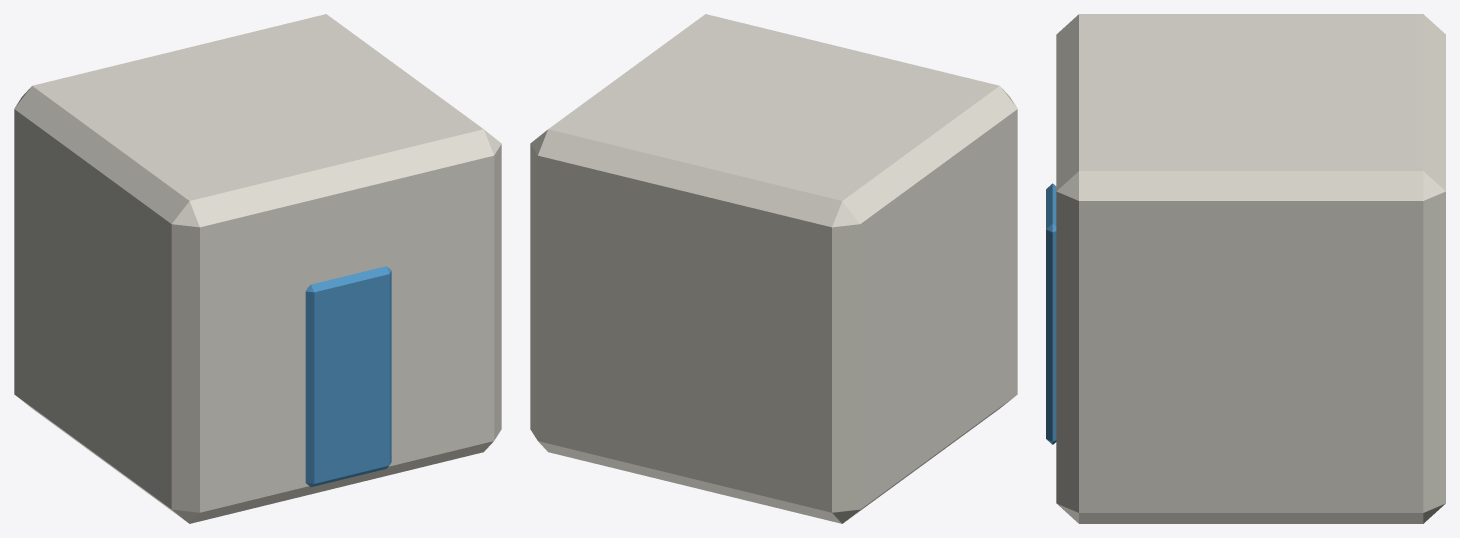
The model's file is white_house.glb.
3 views of the same model, side by side, from view 1: azimuth 30°, elevation 25°; view 2: azimuth 150°, elevation 25°; view 3: azimuth 270°, elevation 25° (orthographic). The views are drawn at different scales.
Parts seen in each view (by area): view 1: house, door; view 2: house; view 3: house, door.
Boxes of the visible parts, <box> form: house: <box>14,14,501,523</box>; door: <box>305,266,391,487</box>; house: <box>530,14,1017,523</box>; house: <box>1056,14,1445,523</box>; door: <box>1046,183,1056,444</box>.
Size of the model in its own units: 0.92 by 0.86 by 0.883.
